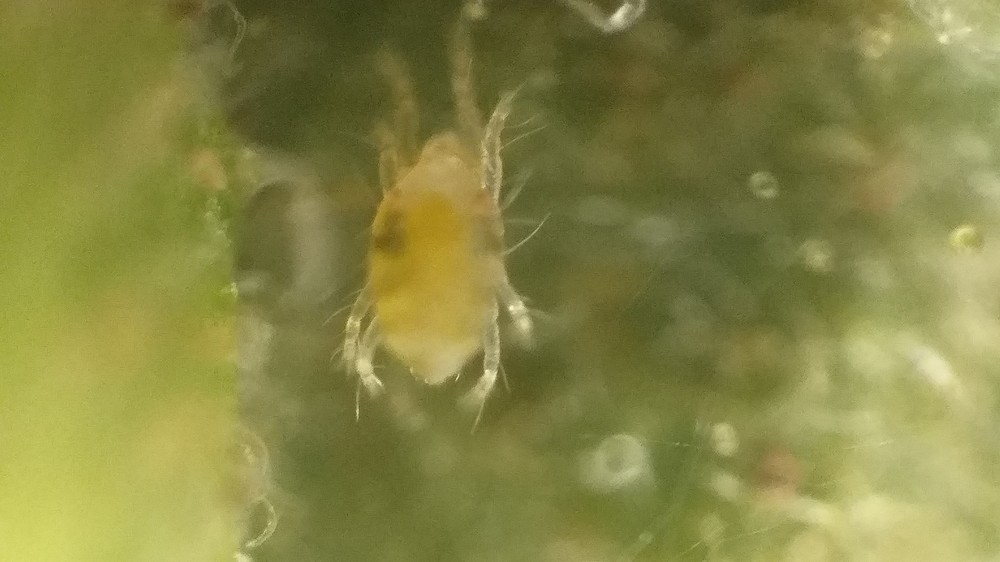Aracnido Rojo: (305, 34, 575, 422)
